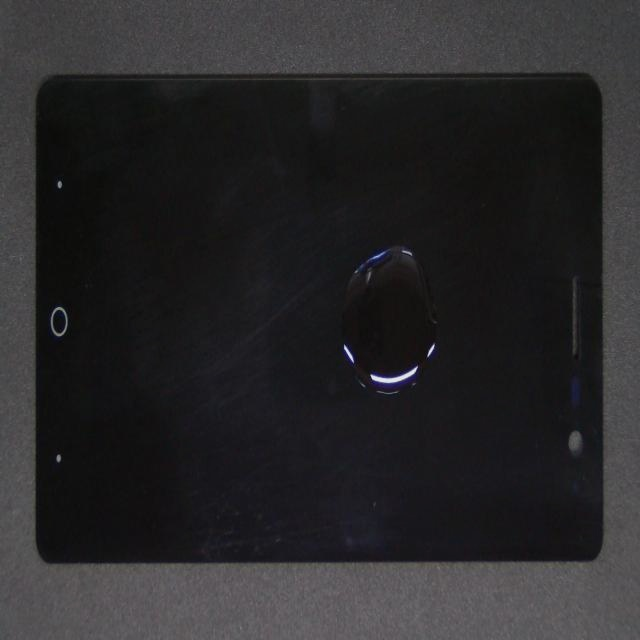oil: (229, 189, 640, 451)
